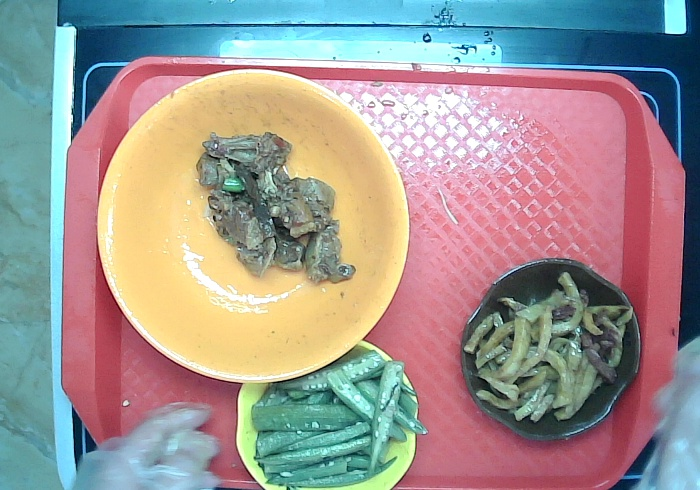YKMZ-Huang_Se_Ao_Bian_Wan: (232, 337, 420, 490)
YKMZ-Ju_Se_Tang_Wan: (95, 68, 413, 386)
YKMZ-Ka_Fei_Ao_Bian_Wan: (459, 258, 642, 445)
